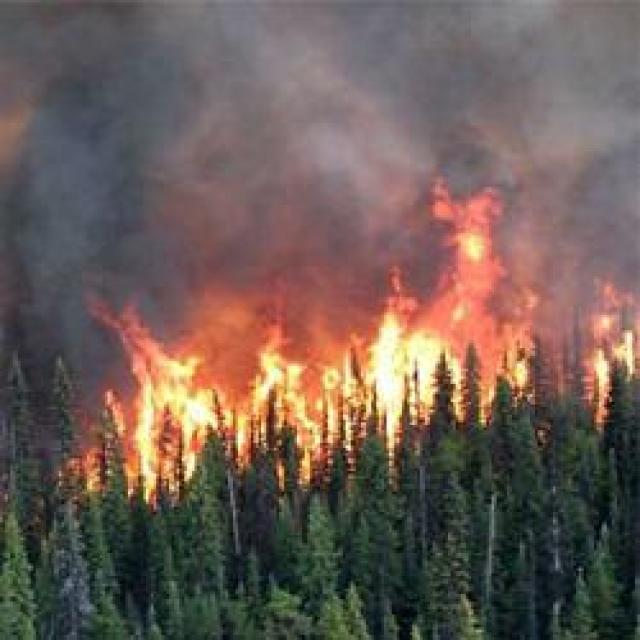fire: (137, 371, 210, 490), (373, 318, 440, 422), (255, 344, 308, 432), (594, 318, 612, 420)
smoke: (170, 13, 413, 248), (395, 3, 640, 172), (9, 73, 164, 284), (542, 158, 640, 302)
